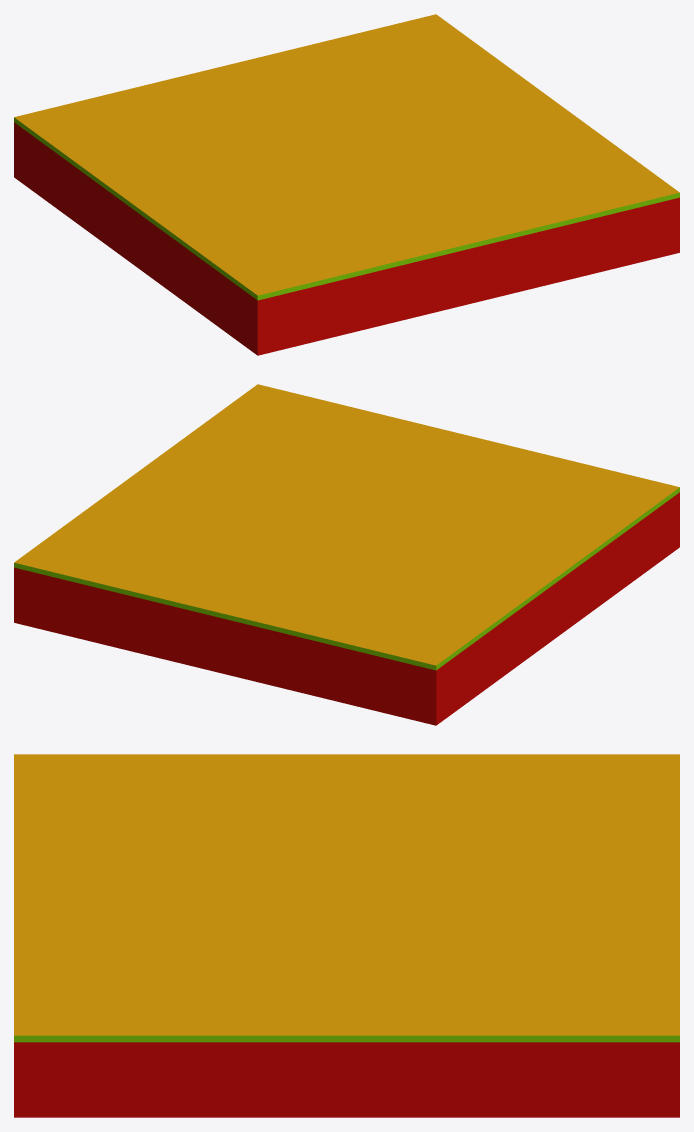
File: Floor.fbx
3 renders of one model, top to bottom at view 1: azimuth 30°, elevation 25°; view 2: azimuth 150°, elevation 25°; view 3: azimuth 270°, elevation 25°, orthographic. The views are drawn at different scales.
Parts seen in each view (by area): view 1: Floor; view 2: Floor; view 3: Floor.
Boxes of the visible parts, x1,y1,x2,y2 form: Floor: [14, 14, 679, 355]; Floor: [14, 384, 679, 725]; Floor: [14, 754, 679, 1117].
Bounding box in the file's own units: 200 × 27.22 × 200.
